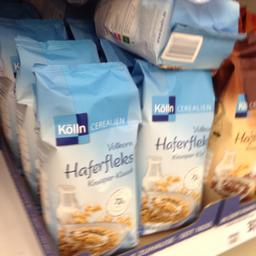cereal: (30, 62, 140, 254), (131, 59, 216, 232)
